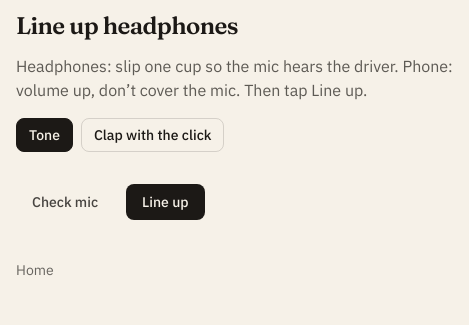
Scenario: CalibrationPage › saves the profile on a successful Line up, without Keep
The width and height of the screenshot is (469, 325).
Step 1. Click the button "Line up" → [165, 202], box [126,184,205,220]
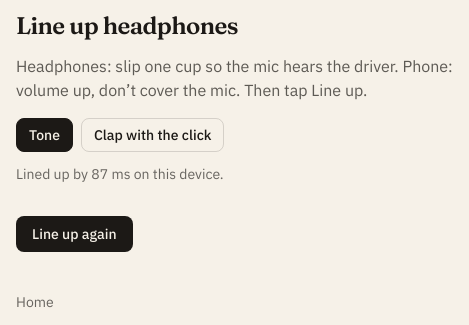
Expected: the text "Lined up by 87 ms on this device." is shown, [16,165,224,183]
